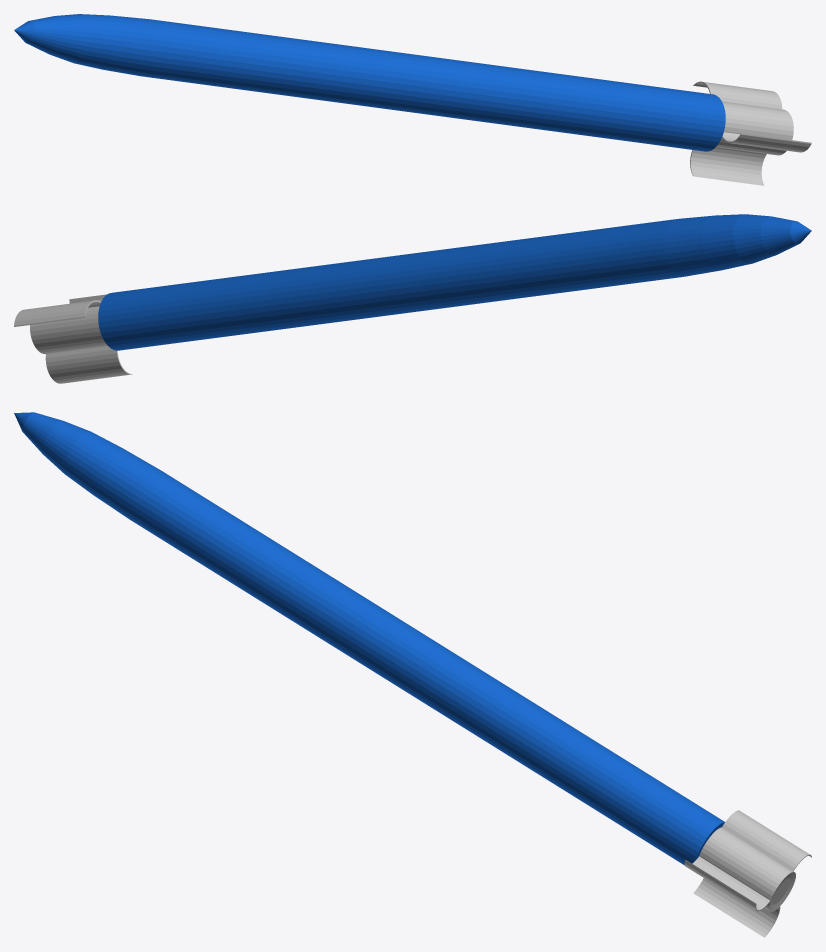
The model's file is Rocket.fbx.
3 renders of one model, top to bottom at view 1: azimuth 30°, elevation 25°; view 2: azimuth 150°, elevation 25°; view 3: azimuth 330°, elevation 25°, orthographic.
Visible parts, largest first — view 1: Cylinder.006_Cylinder.006, Cylinder.002_Cylinder.007; view 2: Cylinder.006_Cylinder.006, Cylinder.002_Cylinder.007; view 3: Cylinder.006_Cylinder.006, Cylinder.002_Cylinder.007.
Boxes of the visible parts, x1,y1,x2,y2 form: Cylinder.006_Cylinder.006: (14,14,725,151); Cylinder.002_Cylinder.007: (690,81,811,185); Cylinder.006_Cylinder.006: (98,214,811,350); Cylinder.002_Cylinder.007: (14,294,132,383); Cylinder.006_Cylinder.006: (14,412,724,865); Cylinder.002_Cylinder.007: (684,810,811,937).
Bounding box in the file's own units: 1363 × 573 × 157.
